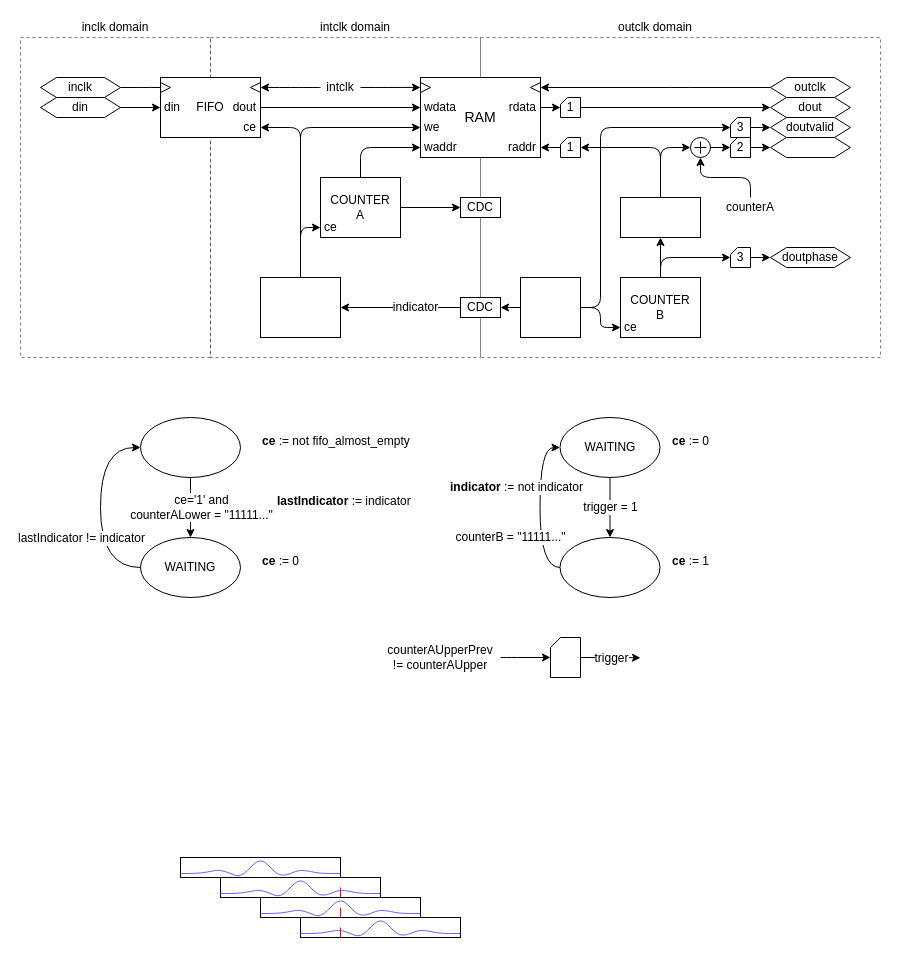
The diagram is 898 pixels wide and 956 high, and some of its shapes have lost their labels. The shapes that lost their labels are listed below. From the top down, each one's centre as x and y in pixels, then its label:
At (x=810, y=147): "doutindex".
At (x=660, y=217): "BIT PERMUTE".
At (x=300, y=307): "STATE MACHINE A".
At (x=550, y=307): "STATE MACHINE B".
At (x=190, y=447): "WRITING".
At (x=609, y=567): "RUNNING".
